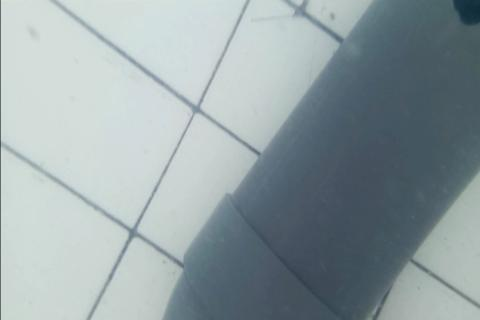kebocoran: (451, 0, 479, 28)
